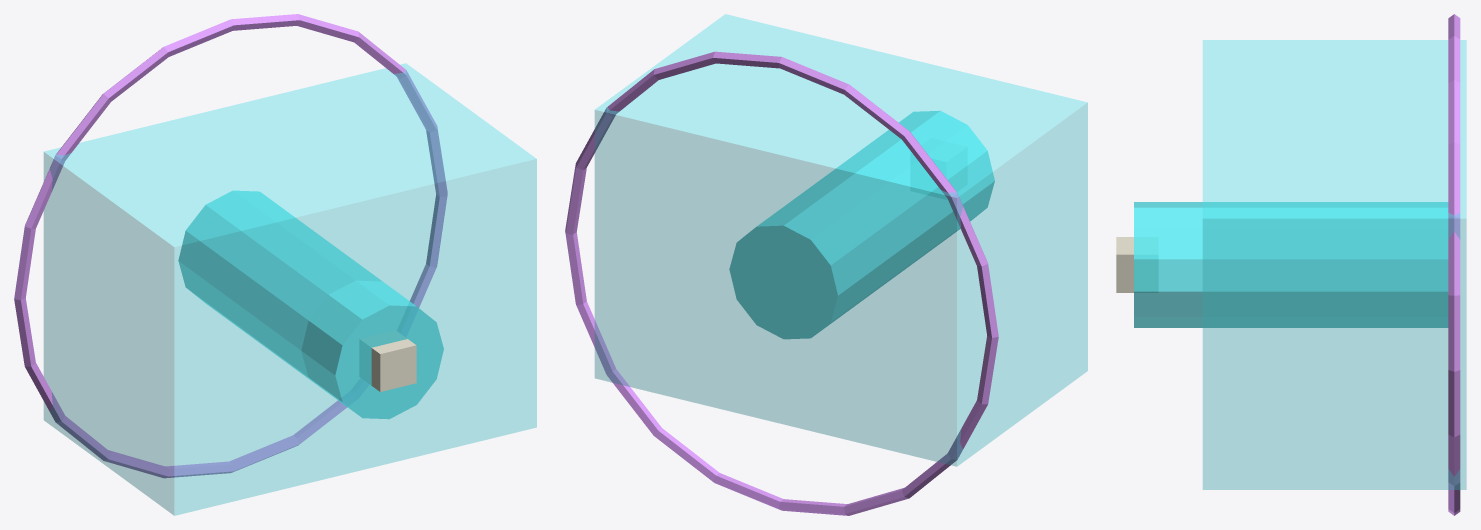
Rendered from 02_lod_collision_overlay_2.glb.
3 views of the same model, side by side, from view 1: azimuth 30°, elevation 25°; view 2: azimuth 150°, elevation 25°; view 3: azimuth 270°, elevation 25° (orthographic).
Visible parts, largest first — view 1: lod_proxy_box, capsule_hint_center, bounds_ring_floor, pivot_marker; view 2: lod_proxy_box, capsule_hint_center, bounds_ring_floor; view 3: lod_proxy_box, capsule_hint_center, bounds_ring_floor, pivot_marker.
Part boxes in pixels (left/top/right/bottom): lod_proxy_box: left=44, top=63, right=536, bottom=515; capsule_hint_center: left=178, top=190, right=443, bottom=419; bounds_ring_floor: left=14, top=14, right=447, bottom=478; pivot_marker: left=360, top=330, right=416, bottom=391; lod_proxy_box: left=595, top=14, right=1087, bottom=466; capsule_hint_center: left=729, top=110, right=994, bottom=339; bounds_ring_floor: left=565, top=51, right=998, bottom=515; lod_proxy_box: left=1203, top=40, right=1466, bottom=489; capsule_hint_center: left=1134, top=202, right=1448, bottom=327; bounds_ring_floor: left=1448, top=14, right=1460, bottom=515; pivot_marker: left=1116, top=237, right=1157, bottom=292.
Size of the model in its own units: 1.44 by 1.44 by 0.995.
